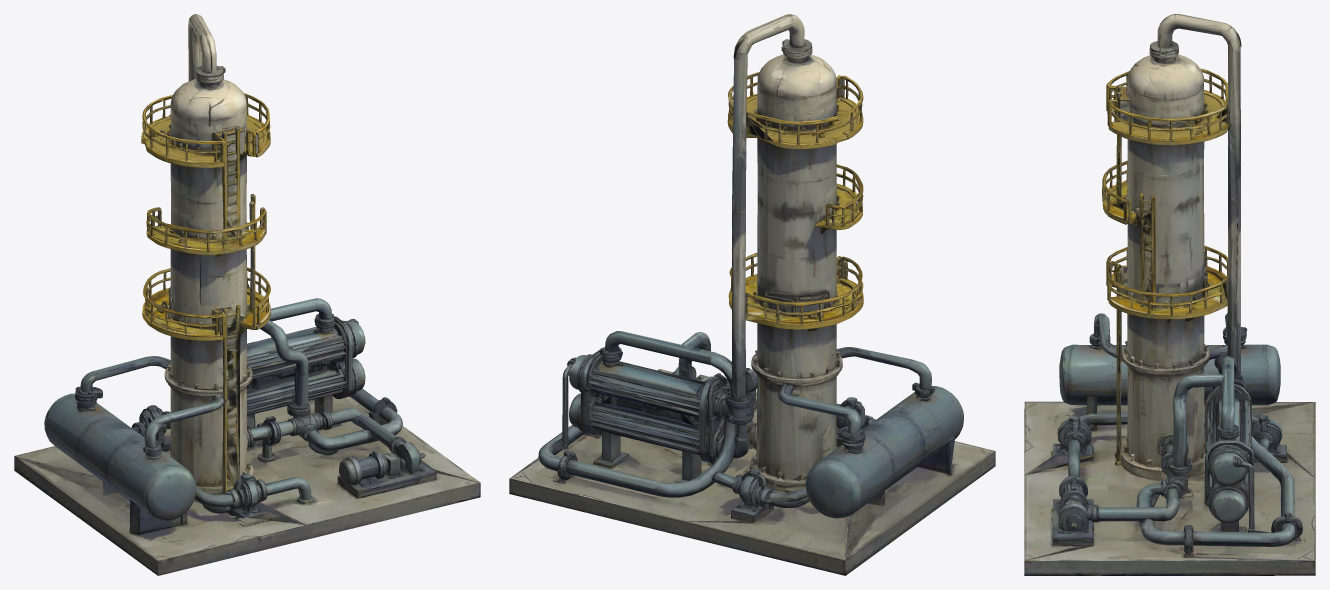
File: ngl.glb
The picture shows the model from 3 angles, left to right: view 1: azimuth 30°, elevation 25°; view 2: azimuth 150°, elevation 25°; view 3: azimuth 270°, elevation 25°; orthographic projection. The views are drawn at different scales.
Bounding box in the file's own units: 1.4 × 1.9 × 1.08.
Materials: 1 (1 with a texture image).
